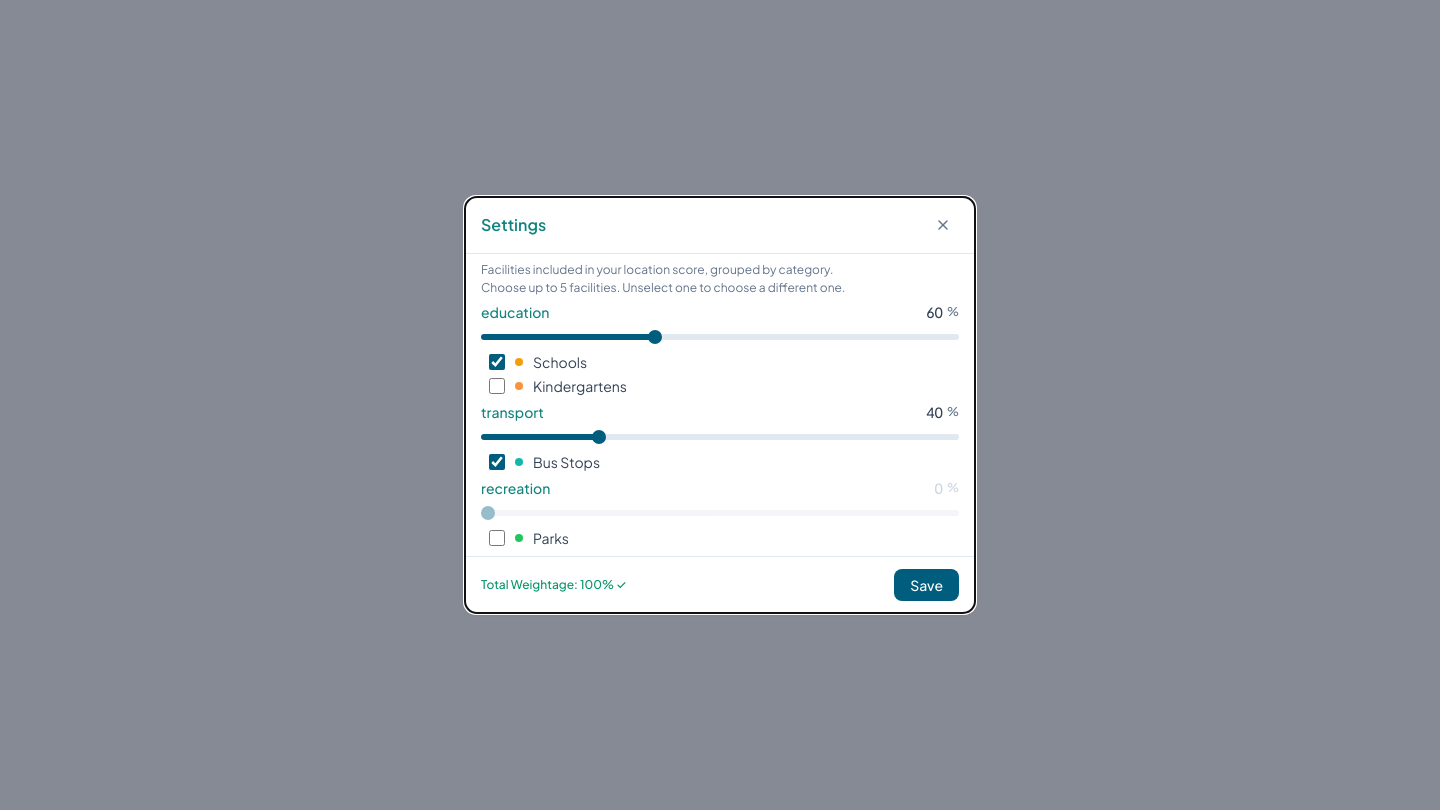
SettingsModal › Weight sliders › shows the Recreation slider defaulted to 0% once a recreation facility is checked
The width and height of the screenshot is (1440, 810).
Click the checkbox labelled "Parks". click: (497, 538)
box: [489, 530, 505, 546]
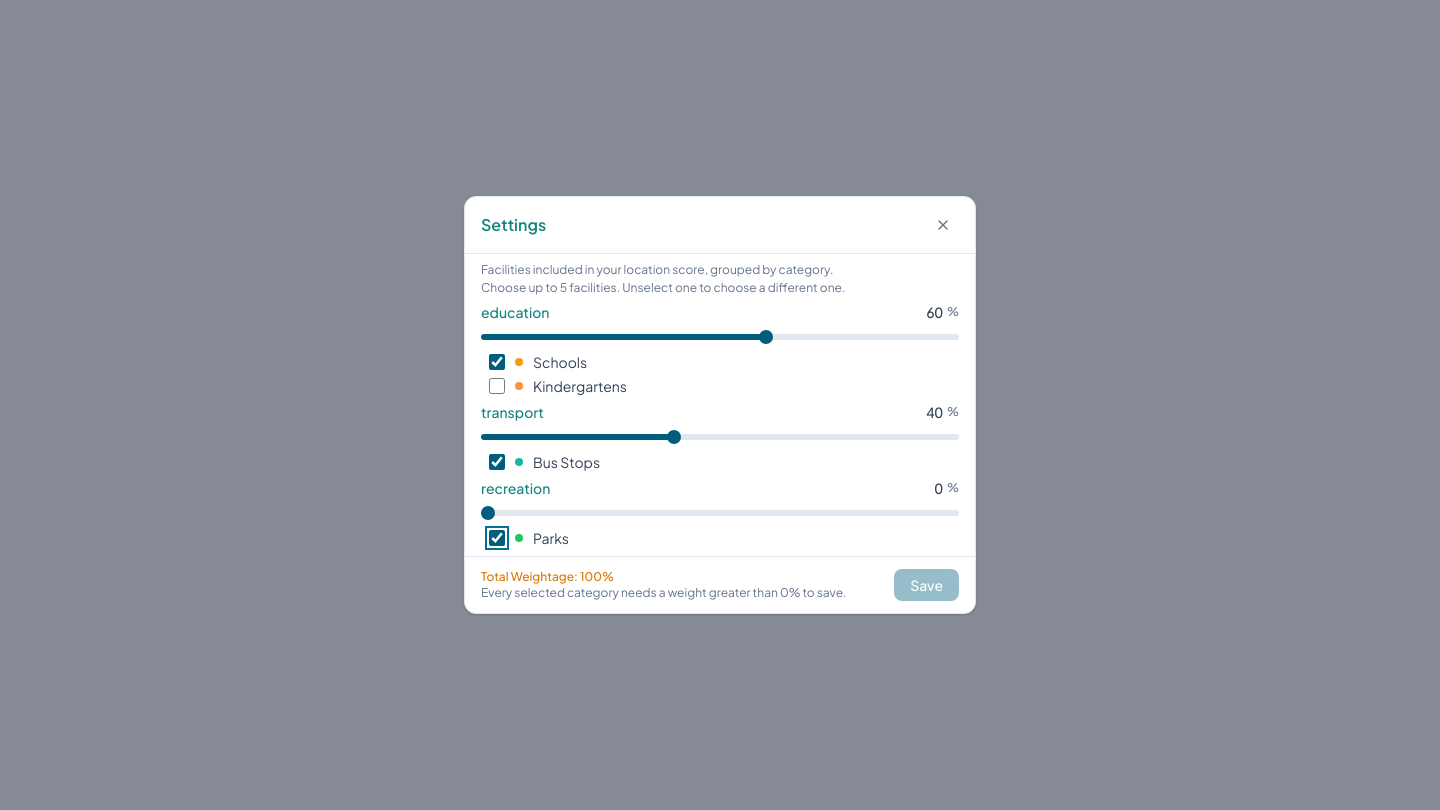
Expected: the slider named "recreation" holds "0", [481, 510, 959, 516]
Now the slider named "recreation" is enabled, box [481, 510, 959, 516]
